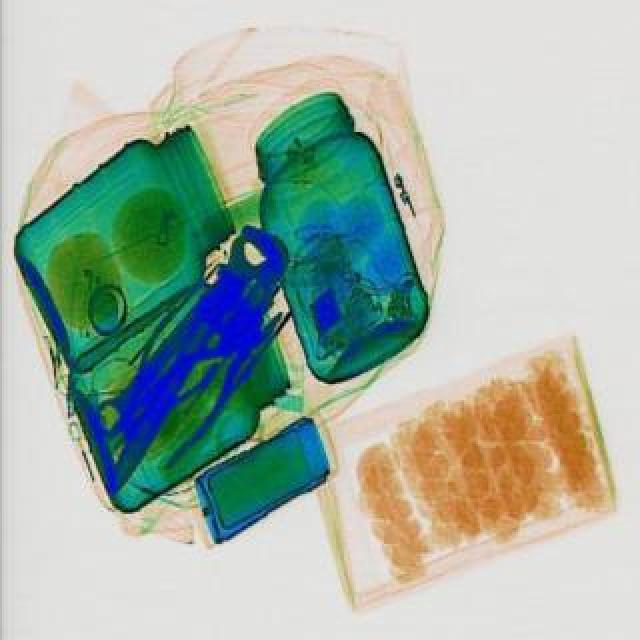scissors: (76, 220, 284, 444)
wrench: (128, 288, 300, 470)
